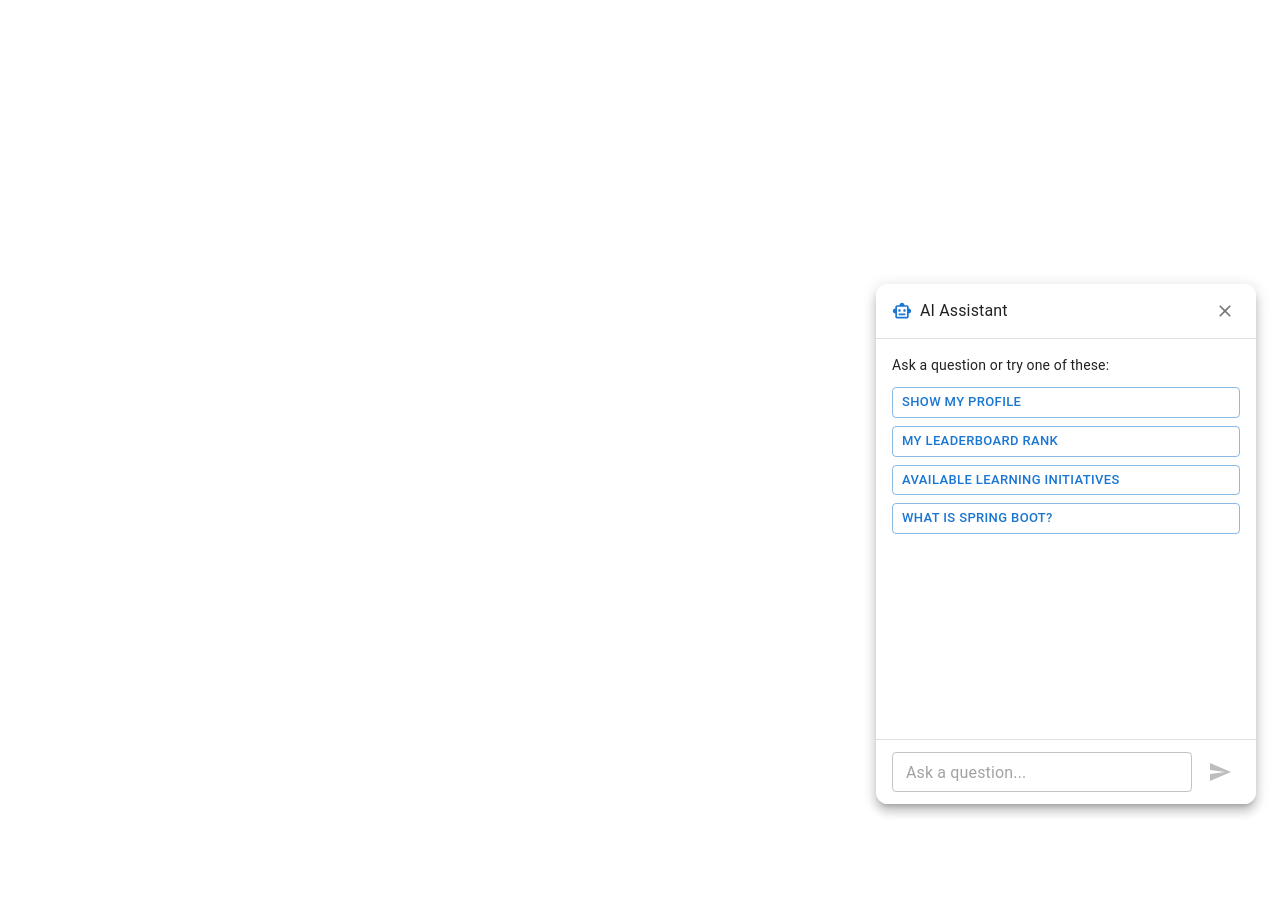
Test: AssistantChatPanel › renders a navigation button when chat returns navigation metadata
Type "Open Projects" into the text box with placeholder "Ask a question..." at (1042, 772), box [906,760,1178,784]
Then press Enter
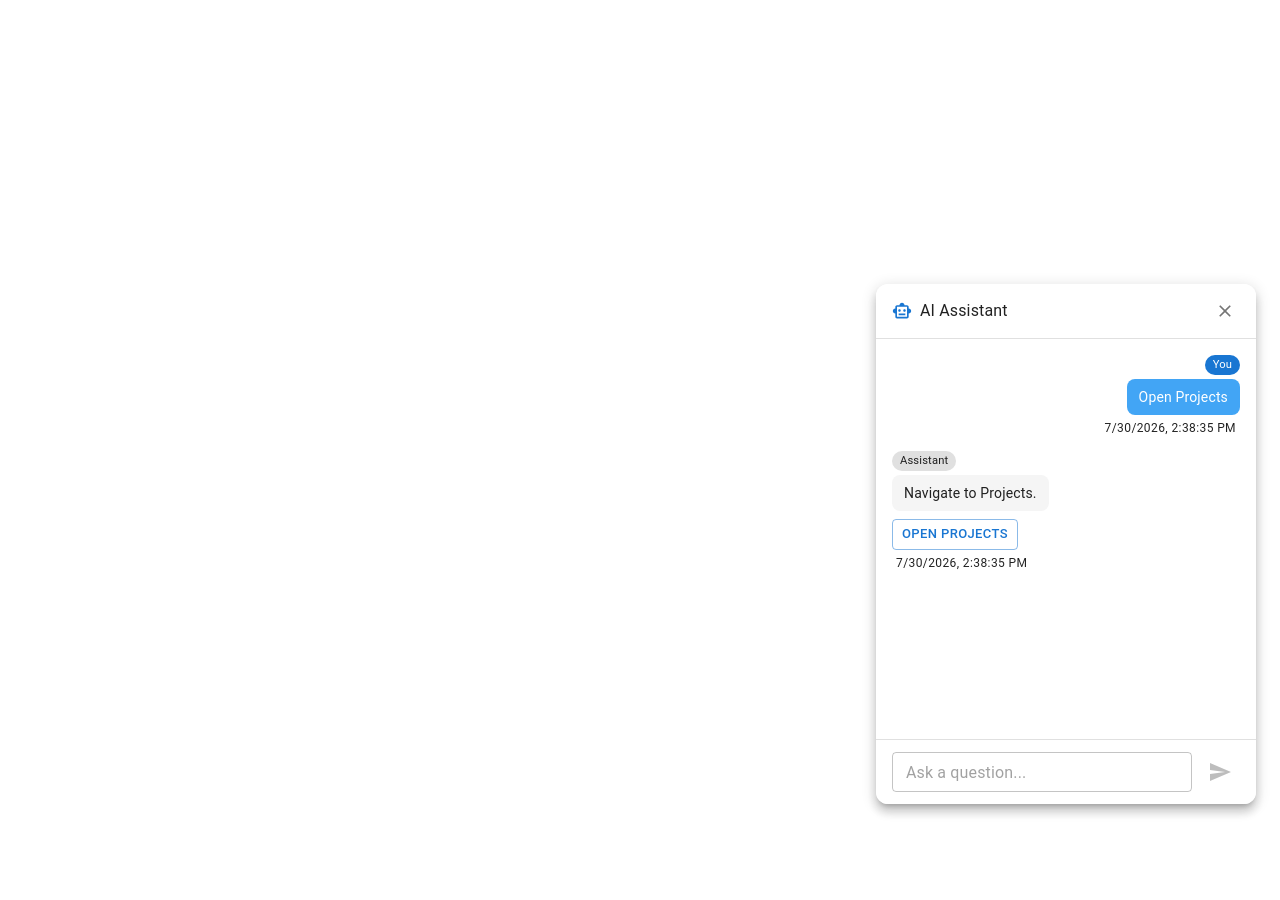
Now the text "Navigate to Projects." is shown, box [904,483,1037,503]
Now the button "Open Projects" is shown, box [892,519,1018,550]
